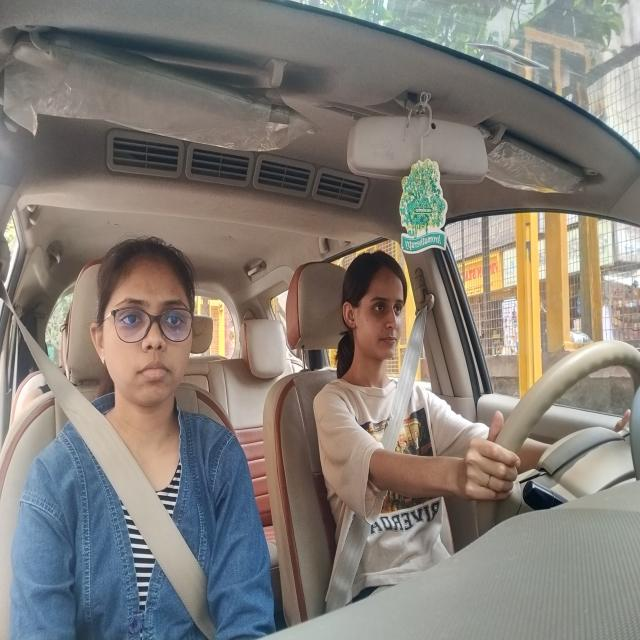person: (86, 239, 198, 415), (339, 251, 405, 361)
